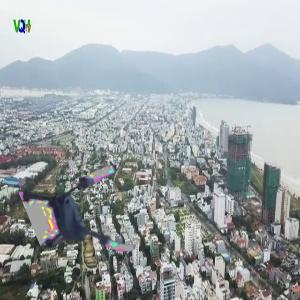drone: (34, 167, 140, 273)
